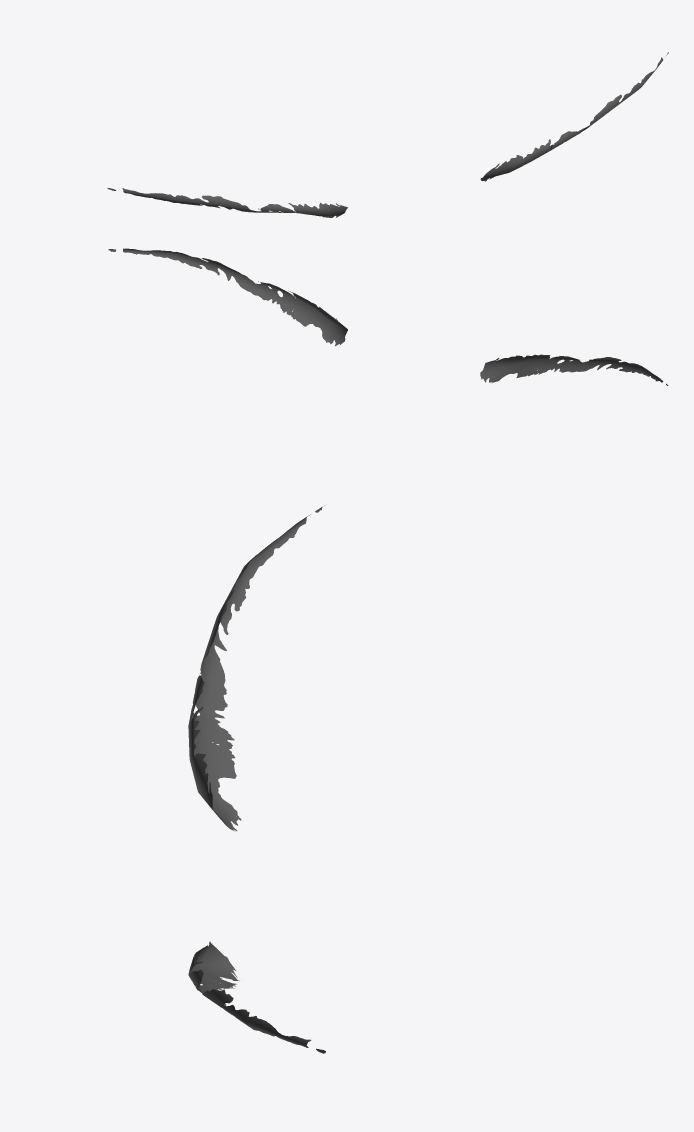
The model's file is brow007.glb.
3 renders of one model, top to bottom at view 1: azimuth 30°, elevation 25°; view 2: azimuth 150°, elevation 25°; view 3: azimuth 270°, elevation 25°, orthographic. The views are drawn at different scales.
Visible parts, largest first — view 1: editor_brow007; view 2: editor_brow007; view 3: editor_brow007.
Boxes of the visible parts, <box> form: editor_brow007: <box>107,52,668,217</box>; editor_brow007: <box>108,248,668,385</box>; editor_brow007: <box>188,505,325,1053</box>.
Bounding box in the file's own units: 0.1113 × 0.0115 × 0.0231.
1 material, 1 textured.
